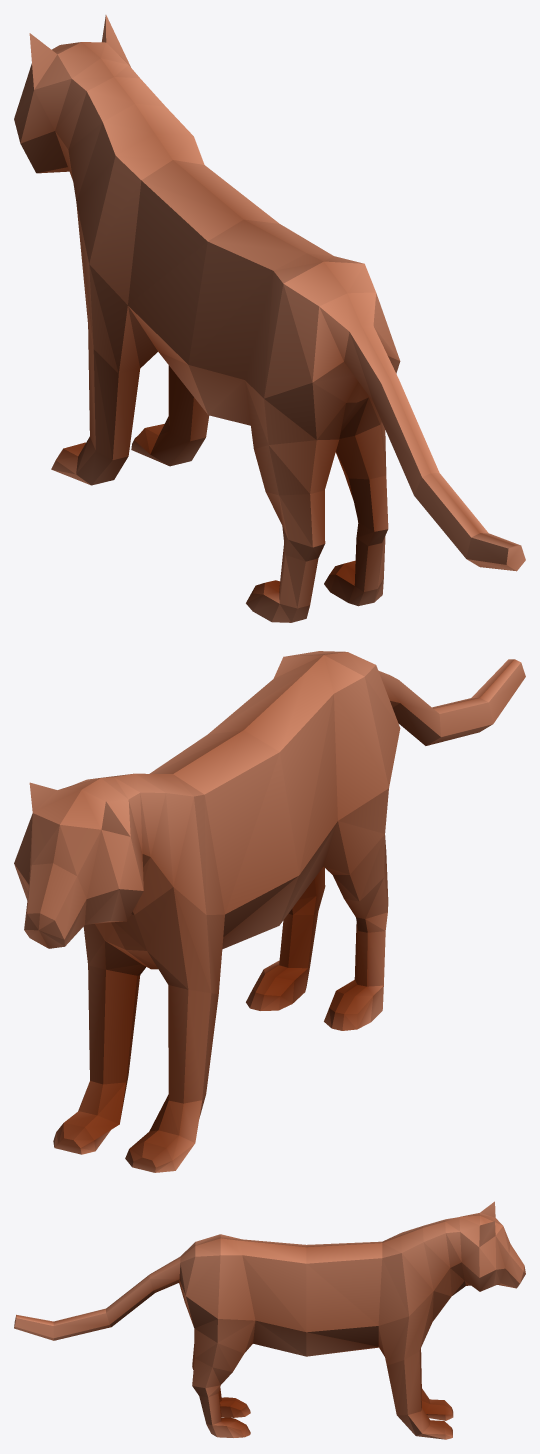
File: tigerC.obj
3 views of the same model, one above another, from view 1: azimuth 30°, elevation 25°; view 2: azimuth 150°, elevation 25°; view 3: azimuth 270°, elevation 25° (orthographic). The views are drawn at different scales.
Size of the model in its own units: 0.4584 by 1.39 by 3.04.
